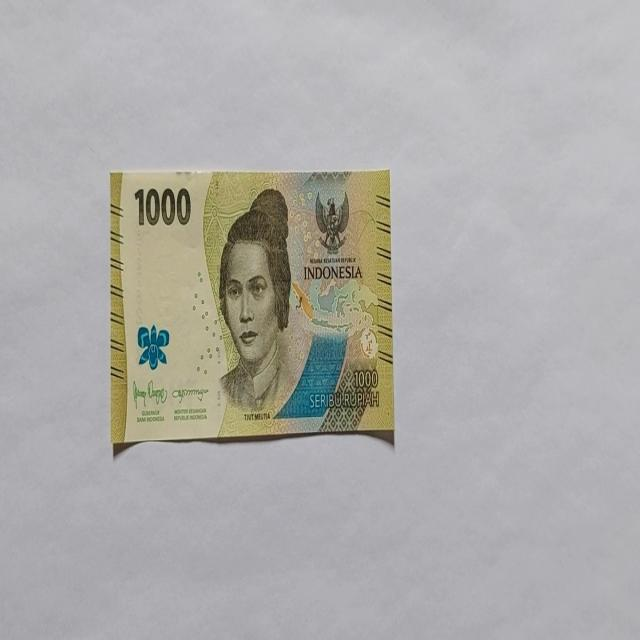seribu rupiah kertas: (109, 168, 394, 447)
